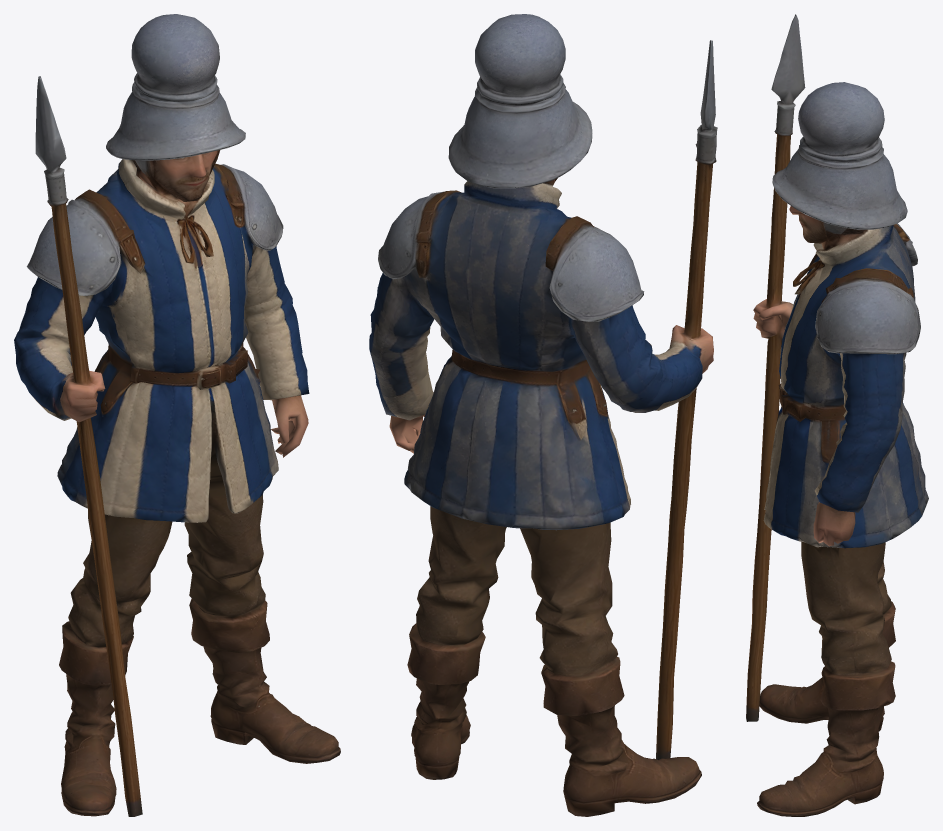
The model's file is royal-peasant.glb.
3 views of the same model, side by side, from view 1: azimuth 30°, elevation 25°; view 2: azimuth 150°, elevation 25°; view 3: azimuth 270°, elevation 25° (orthographic). The views are drawn at different scales.
Visible parts, largest first — view 1: tripo_node_d2e34206-c640-4df3-90c1-93ab648ce330; view 2: tripo_node_d2e34206-c640-4df3-90c1-93ab648ce330; view 3: tripo_node_d2e34206-c640-4df3-90c1-93ab648ce330.
Boxes of the visible parts, x1,y1,x2,y2 form: tripo_node_d2e34206-c640-4df3-90c1-93ab648ce330: (14, 14, 340, 816); tripo_node_d2e34206-c640-4df3-90c1-93ab648ce330: (369, 14, 717, 816); tripo_node_d2e34206-c640-4df3-90c1-93ab648ce330: (746, 14, 928, 816).
Bounding box in the file's own units: 0.4158 × 0.9997 × 0.2447.
Materials: 1 (1 with a texture image).
